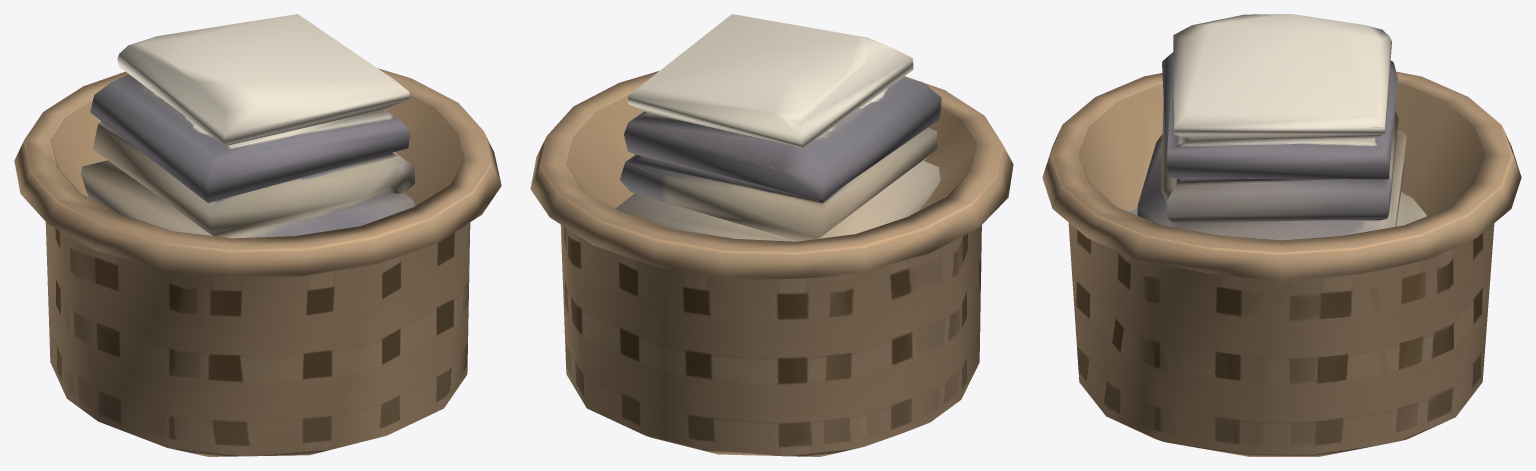
File: laundry_basket.glb
3 views of the same model, side by side, from view 1: azimuth 30°, elevation 25°; view 2: azimuth 150°, elevation 25°; view 3: azimuth 270°, elevation 25° (orthographic).
Bounding box in the file's own units: 0.9497 × 0.7329 × 0.9497.
Materials: 1 (1 with a texture image).
